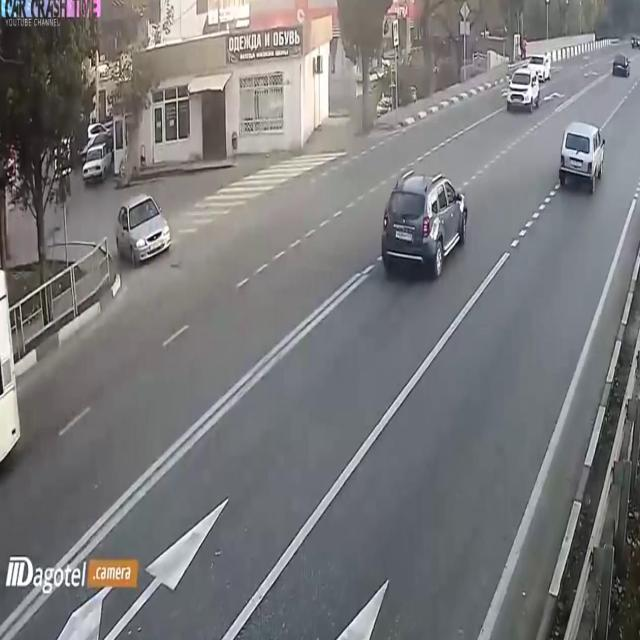non_accident: (504, 48, 554, 121)
